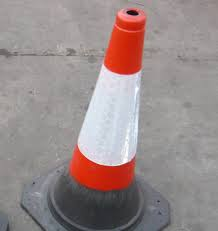cones: (31, 7, 171, 231)
